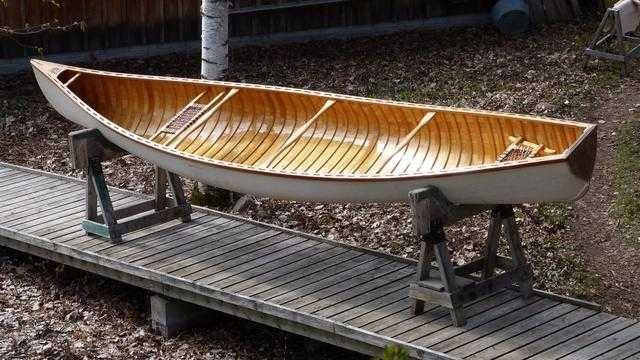kayak: (31, 62, 604, 202)
